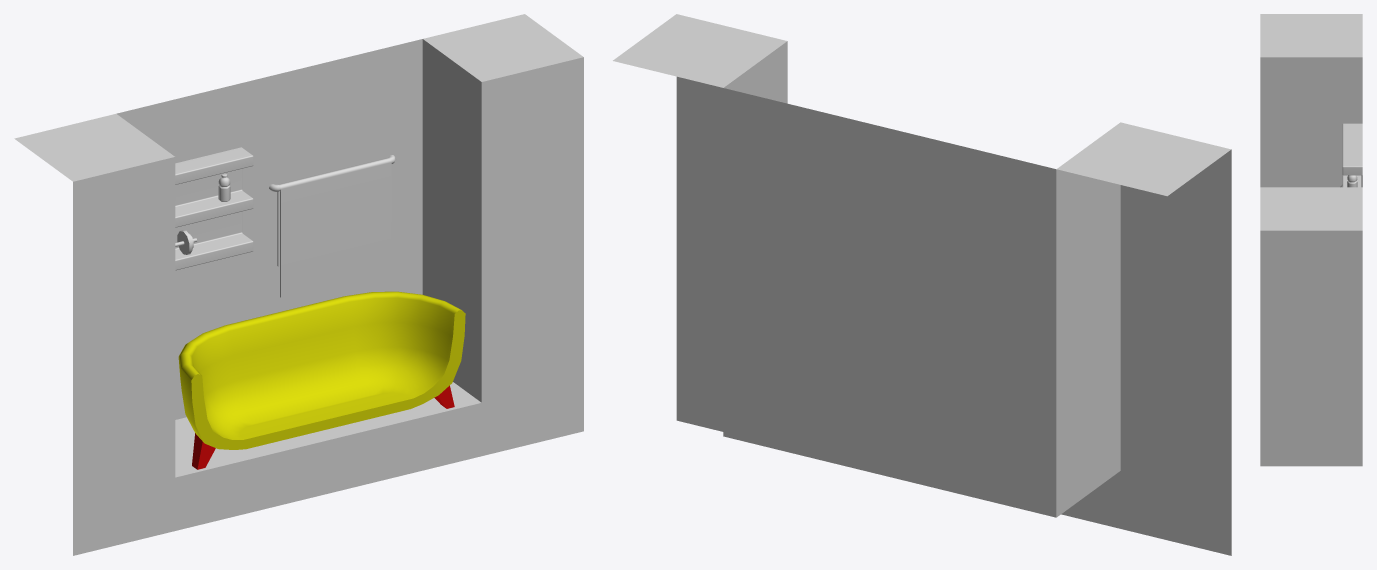
Rendered from Bathroom.fbx.
3 views of the same model, side by side, from view 1: azimuth 30°, elevation 25°; view 2: azimuth 150°, elevation 25°; view 3: azimuth 270°, elevation 25° (orthographic). The views are drawn at different scales.
Visible parts, largest first — view 1: wall, bath, wall_stuff; view 2: wall; view 3: wall, wall_stuff.
Boxes of the visible parts, box(x1,y1,x2,y2) form: wall: box(14, 14, 583, 555); bath: box(178, 291, 465, 469); wall_stuff: box(175, 147, 395, 297); wall: box(613, 14, 1231, 555); wall: box(1260, 14, 1362, 466); wall_stuff: box(1340, 123, 1362, 187).
Size of the model in its own units: 5 by 3.5 by 1.
